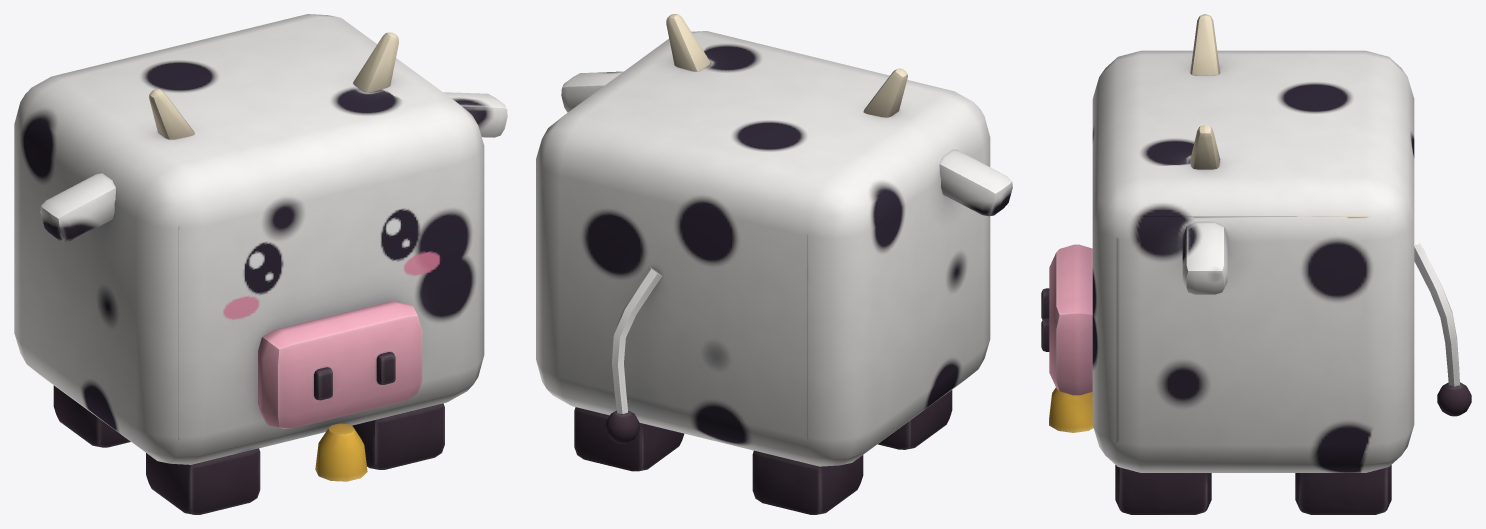
The model's file is Cow.fbx.
3 renders of one model, left to right at view 1: azimuth 30°, elevation 25°; view 2: azimuth 150°, elevation 25°; view 3: azimuth 270°, elevation 25°, orthographic. The views are drawn at different scales.
Visible parts, largest first — view 1: Cow; view 2: Cow; view 3: Cow.
Boxes of the visible parts, x1,y1,x2,y2 form: Cow: (14, 14, 507, 514); Cow: (536, 14, 1012, 514); Cow: (1041, 14, 1471, 514).
Size of the model in its own units: 319 by 266 by 268.
Materials: 1 (1 with a texture image).
